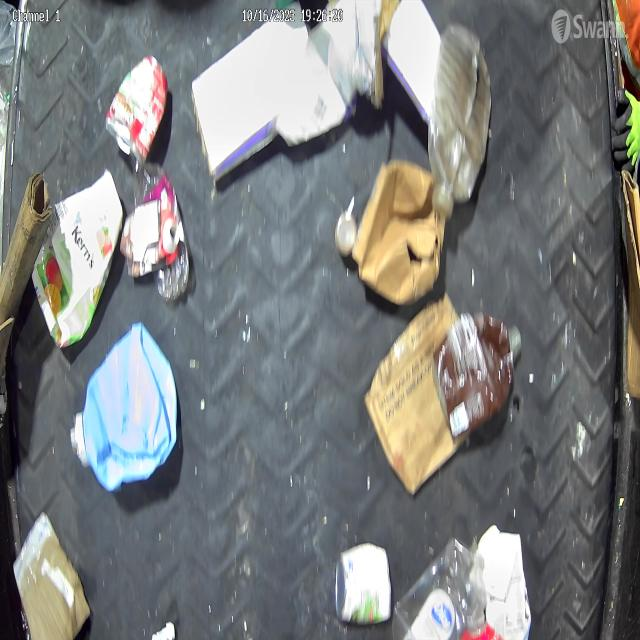can: (103, 53, 169, 168), (334, 542, 394, 626), (333, 209, 358, 257)
non_white_jug: (68, 320, 180, 494), (31, 171, 123, 348)
plastic_bottle: (426, 18, 494, 222), (132, 159, 189, 299)
